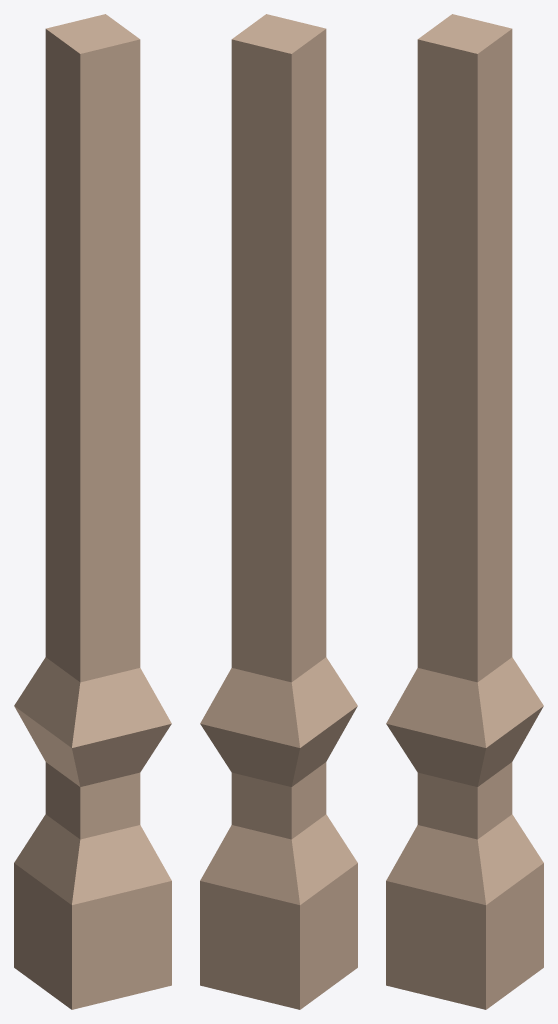
File: Structure_Stairs_Railing_Peg.fbx
The picture shows the model from 3 angles, left to right: view 1: azimuth 30°, elevation 25°; view 2: azimuth 150°, elevation 25°; view 3: azimuth 330°, elevation 25°; orthographic projection.
Parts seen in each view (by area): view 1: object1.104; view 2: object1.104; view 3: object1.104.
Part boxes in pixels (box(x1,y1,x2,y2)): object1.104: box(14, 14, 171, 1009); object1.104: box(200, 14, 357, 1009); object1.104: box(386, 14, 543, 1009).
Size of the model in its own units: 5 by 45 by 5.
